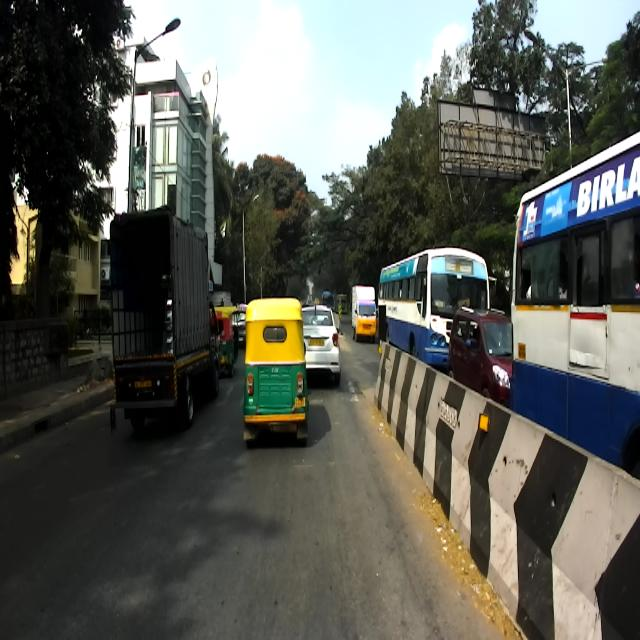auto ahead at: (240, 300, 310, 444)
truck ahead at: (108, 200, 222, 424)
